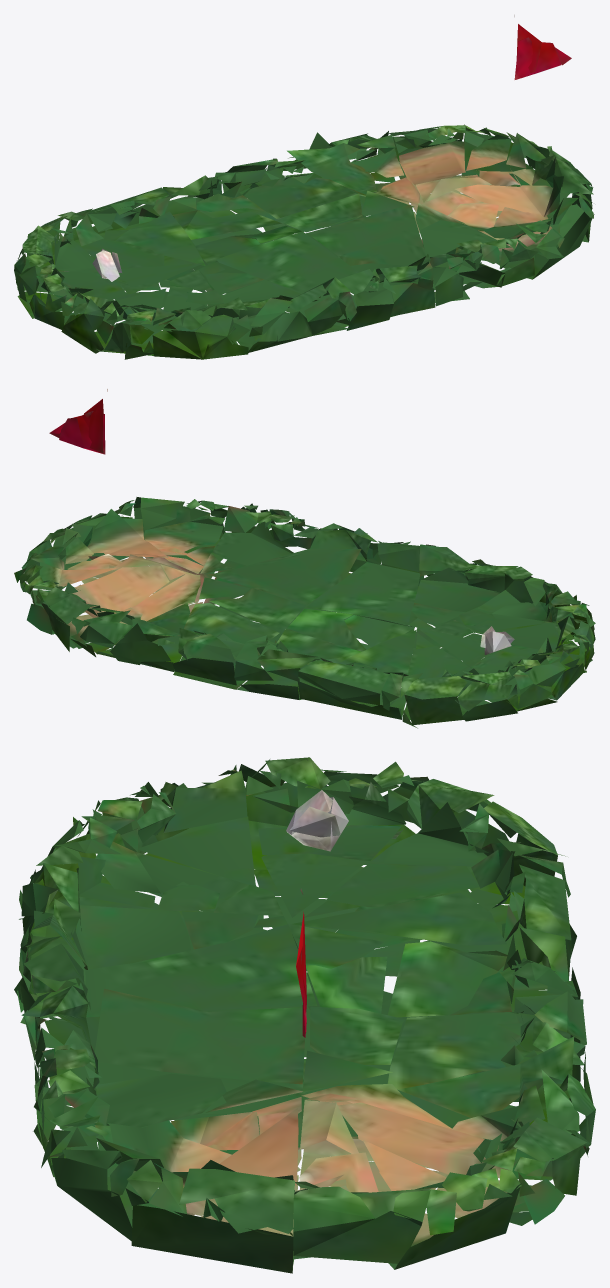
File: loc_sy_bld_golf.glb
3 renders of one model, top to bottom at view 1: azimuth 30°, elevation 25°; view 2: azimuth 150°, elevation 25°; view 3: azimuth 270°, elevation 25°, orthographic. The views are drawn at different scales.
Visible parts, largest first — view 1: tripo_node_96acc6dd-c594-406f-9cd9-3bdff4505379; view 2: tripo_node_96acc6dd-c594-406f-9cd9-3bdff4505379; view 3: tripo_node_96acc6dd-c594-406f-9cd9-3bdff4505379.
Boxes of the visible parts, x1,y1,x2,y2 form: tripo_node_96acc6dd-c594-406f-9cd9-3bdff4505379: (14,15,594,359); tripo_node_96acc6dd-c594-406f-9cd9-3bdff4505379: (14,389,595,728); tripo_node_96acc6dd-c594-406f-9cd9-3bdff4505379: (14,757,595,1273).
Size of the model in its own units: 2.63 by 0.9789 by 1.44.
1 material, 1 textured.
